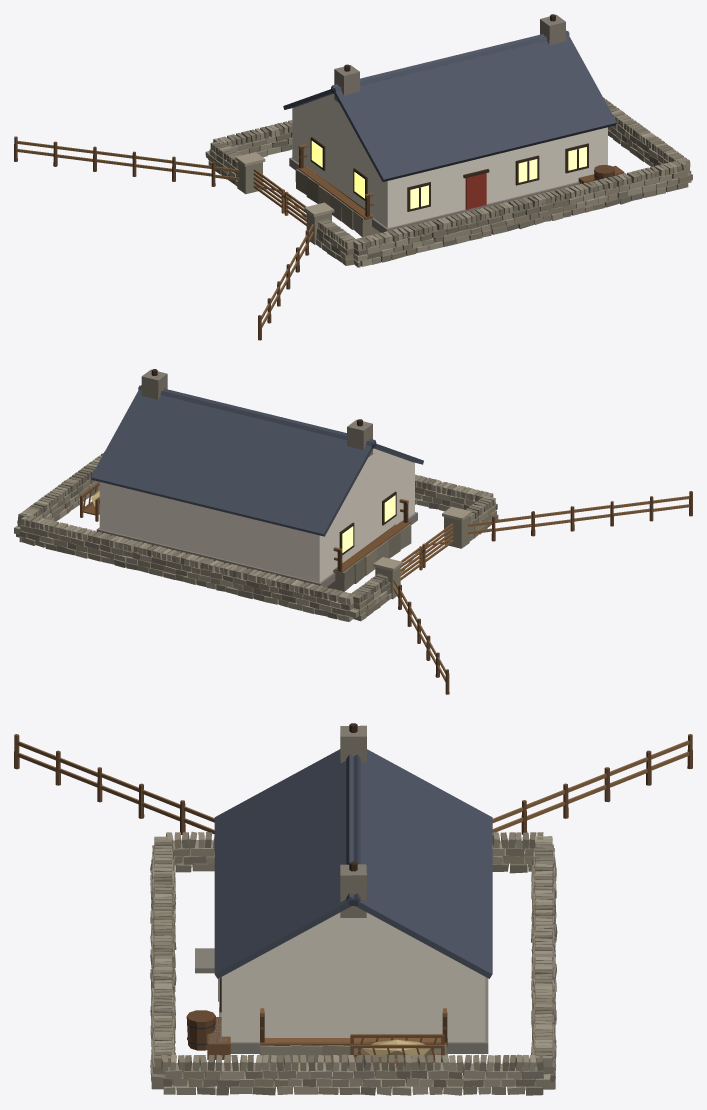
The model's file is structures.glb.
3 renders of one model, top to bottom at view 1: azimuth 30°, elevation 25°; view 2: azimuth 150°, elevation 25°; view 3: azimuth 270°, elevation 25°, orthographic. The views are drawn at different scales.
Parts seen in each view (by area): view 1: farmhouse_body, fold_walls, fold_fences, bridge_body, gate_n; view 2: farmhouse_body, fold_walls, fold_fences, bridge_body, gate_s; view 3: farmhouse_body, fold_walls, fold_fences, bridge_body.
Boxes of the visible parts, x1,y1,x2,y2 form: farmhouse_body: [283, 14, 616, 232]; fold_walls: [205, 97, 692, 267]; fold_fences: [14, 136, 313, 340]; bridge_body: [295, 144, 380, 237]; gate_n: [253, 169, 284, 213]; farmhouse_body: [90, 369, 423, 587]; fold_walls: [14, 451, 498, 621]; fold_fences: [393, 491, 692, 694]; bridge_body: [327, 499, 411, 591]; gate_s: [422, 523, 453, 567]; farmhouse_body: [186, 723, 492, 1053]; fold_walls: [150, 831, 557, 1095]; fold_fences: [14, 734, 692, 834]; bridge_body: [259, 1008, 447, 1072].
Bounding box in the file's own units: 26.55 × 7.47 × 23.19.
